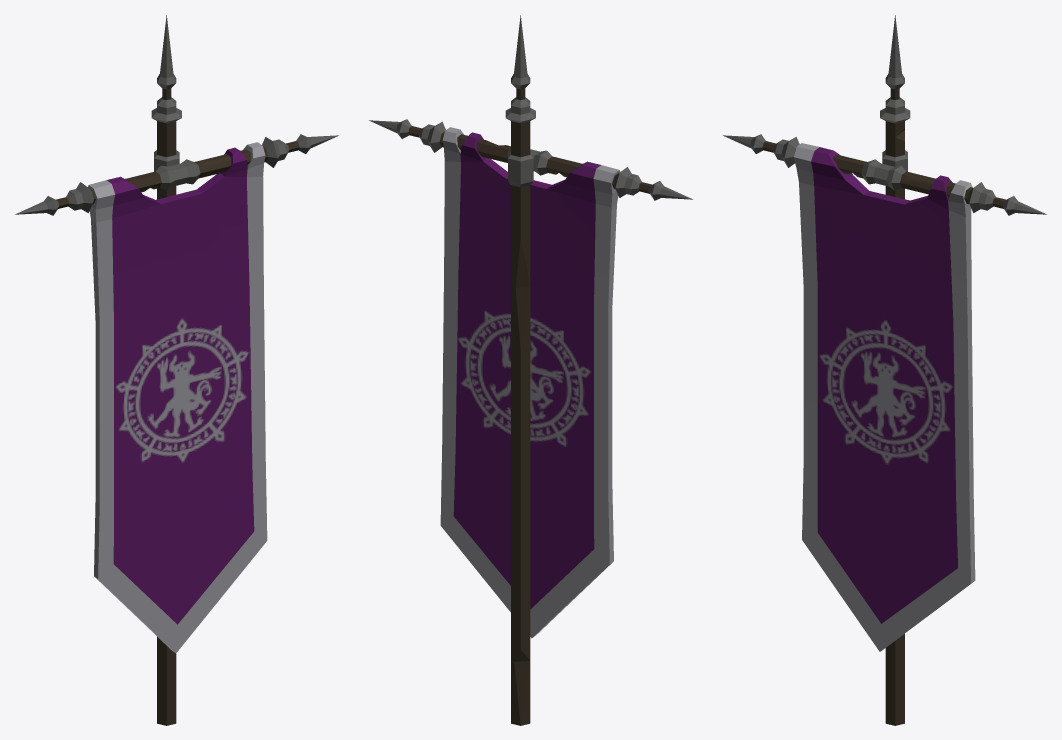
File: crypt_banner.gltf
The picture shows the model from 3 angles, left to right: view 1: azimuth 30°, elevation 25°; view 2: azimuth 150°, elevation 25°; view 3: azimuth 330°, elevation 25°; orthographic projection.
Visible parts, largest first — view 1: crypt_banner; view 2: crypt_banner; view 3: crypt_banner.
Part boxes in pixels (bbox=[...]): crypt_banner: bbox=[15, 15, 338, 725]; crypt_banner: bbox=[369, 15, 692, 725]; crypt_banner: bbox=[723, 15, 1046, 725].
Size of the model in its own units: 1.45 by 3 by 0.2005.
Materials: 1 (1 with a texture image).
